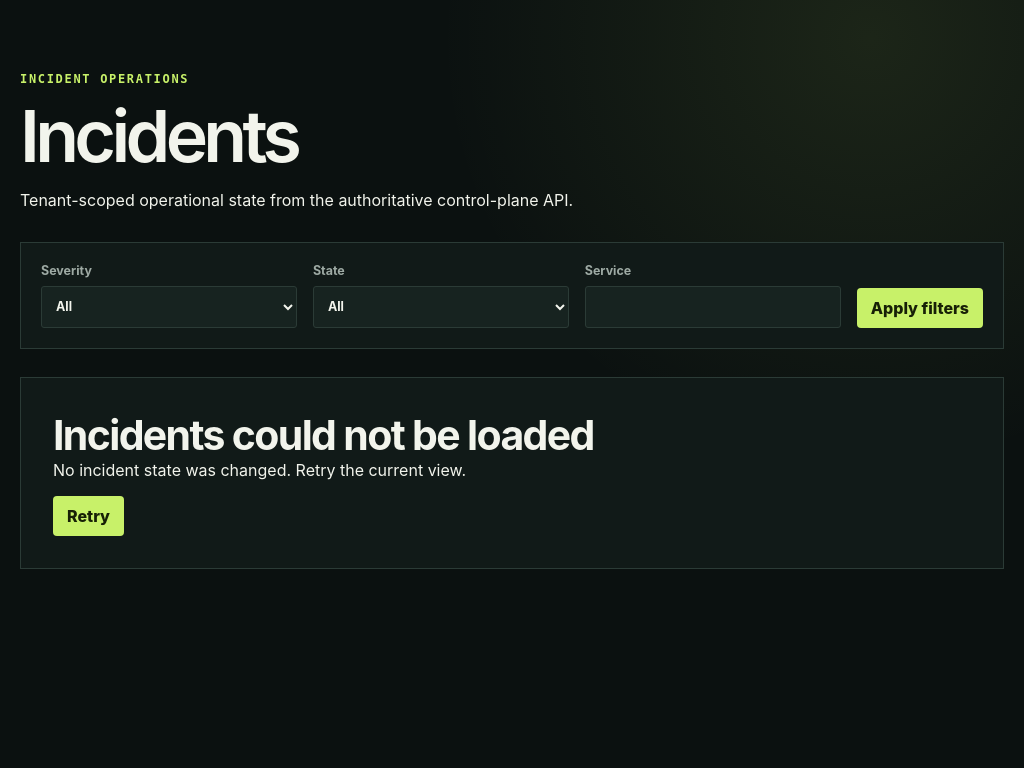
Test case: IncidentList › shows a fail-closed error and retries the same view
Expected: the message shows "No incident state was changed", [53,460,466,480]
Click the button "Retry".
click(88, 516)  # box [53,496,124,536]
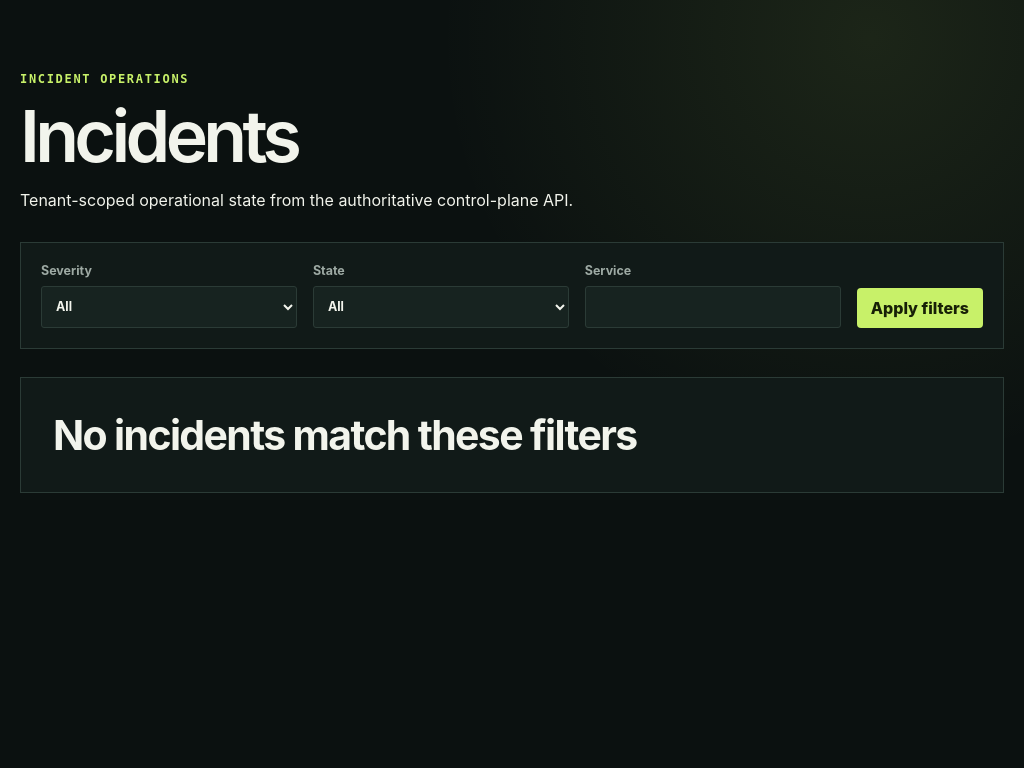
Expected: the heading "No incidents match these filters" is shown, [53,410,636,460]
